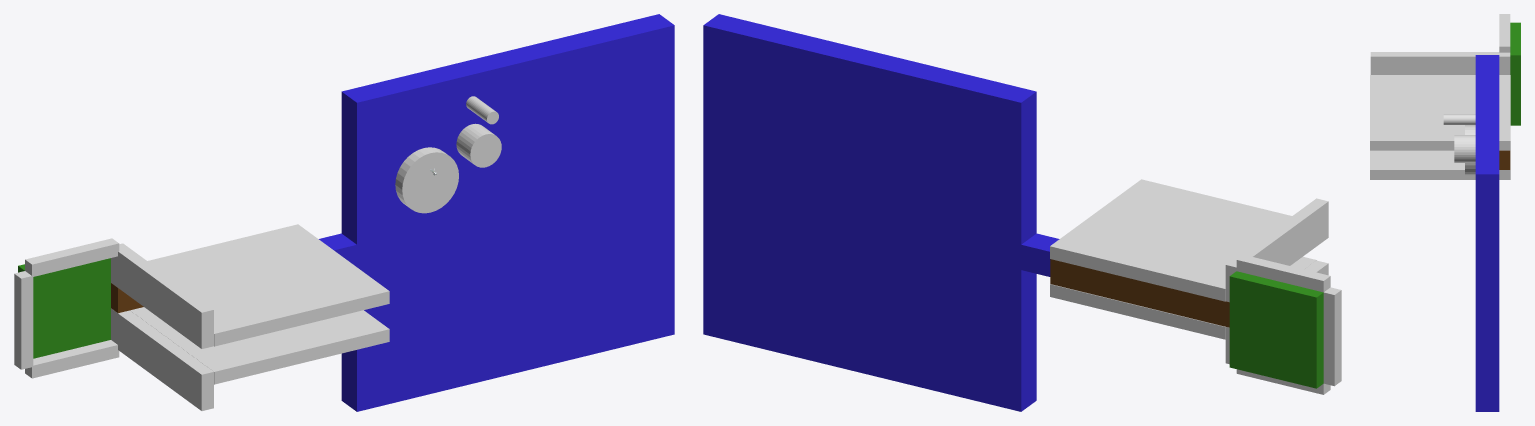
The picture shows the model from 3 angles, left to right: view 1: azimuth 30°, elevation 25°; view 2: azimuth 150°, elevation 25°; view 3: azimuth 270°, elevation 25°; orthographic projection. The views are drawn at different scales.
Visible parts, largest first — view 1: Cube.010, Cube.011, Cube.009, Cube.002, Cube.007, Cube.006, Cylinder, Cube.003, Cube.004, Cube.005, Cylinder.001, Cube.012; view 2: Cube.010, Cube.011, Cube.002, Cube, Cube.007, Cube.009, Cube.003, Cube.004, Cube.012; view 3: Cube.010, Cube.011, Cube.009, Cube.007, Cube.002, Cylinder.001, Cube.004, Cylinder.002, Cylinder, Cube.
Boxes of the visible parts, x1,y1,x2,y2 form: Cube.010: [341, 14, 674, 411]; Cube.011: [147, 224, 389, 346]; Cube.009: [130, 307, 389, 384]; Cube.002: [18, 258, 110, 358]; Cube.007: [111, 243, 213, 348]; Cube.006: [111, 308, 213, 410]; Cylinder: [395, 147, 458, 213]; Cube.003: [14, 271, 33, 369]; Cube.004: [25, 238, 119, 276]; Cube.005: [25, 340, 119, 378]; Cylinder.001: [456, 123, 501, 167]; Cube.012: [319, 233, 356, 266]; Cube.010: [703, 14, 1036, 411]; Cube.011: [1050, 179, 1291, 301]; Cube.002: [1229, 271, 1323, 388]; Cube: [1050, 259, 1229, 327]; Cube.007: [1225, 198, 1328, 302]; Cube.009: [1050, 256, 1316, 339]; Cube.003: [1323, 287, 1341, 386]; Cube.004: [1236, 254, 1330, 292]; Cube.012: [1021, 233, 1059, 276]; Cube.010: [1475, 55, 1499, 411]; Cube.011: [1370, 75, 1510, 150]; Cube.009: [1370, 150, 1510, 179]; Cube.007: [1370, 52, 1510, 74]; Cube.002: [1510, 22, 1520, 125]; Cylinder.001: [1454, 135, 1475, 162]; Cube.004: [1499, 14, 1510, 52]; Cylinder.002: [1443, 114, 1475, 124]; Cylinder: [1465, 125, 1475, 175]; Cube: [1499, 150, 1510, 169].
Bounding box in the file's own units: 105 × 48.84 × 28.1.
5 materials, 1 textured.
